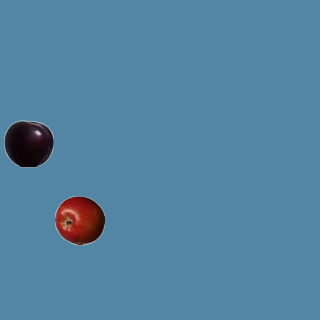Apple Braeburn: (54, 195, 104, 245)
Cherry Wax Black: (3, 118, 53, 168)
